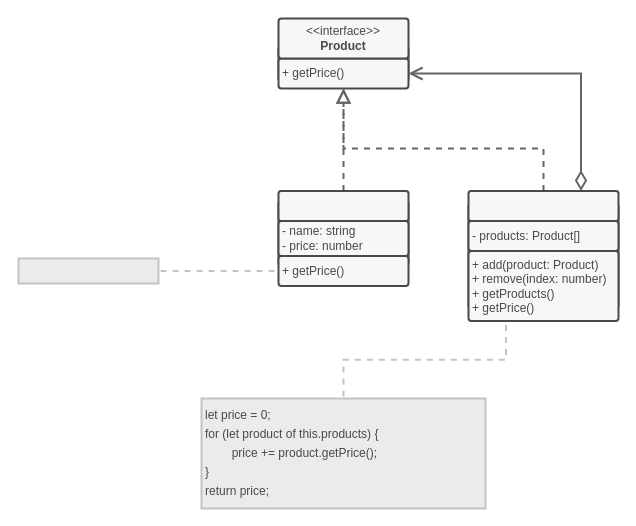
Image size: 636x526. Some labels were removed from this diagram. The centre of each missing label's shape, as x and y in pixels:
ConcreteProduct: point 343,206
ProductBox: point 543,206
return this.price;: point 88,270
